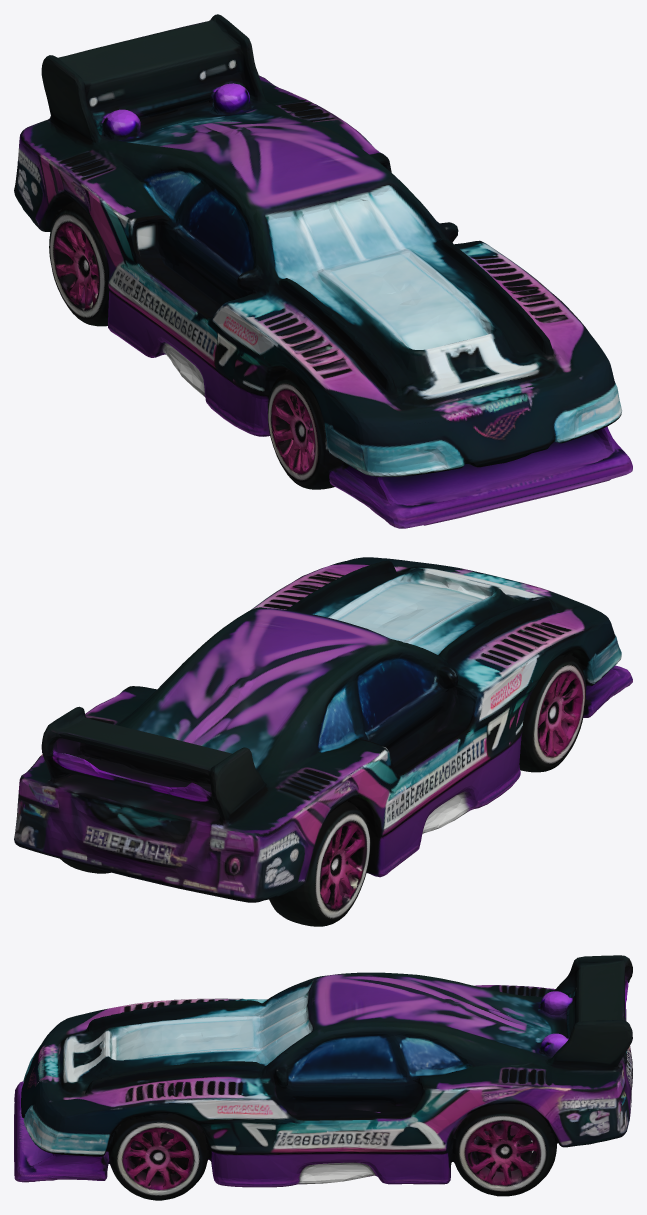
3 views of the same model, one above another, from view 1: azimuth 30°, elevation 25°; view 2: azimuth 150°, elevation 25°; view 3: azimuth 270°, elevation 25° (orthographic). The views are drawn at different scales.
Visible parts, largest first — view 1: material; view 2: material; view 3: material.
Part boxes in pixels (x1,y1,x2,y2): material: (14, 14, 632, 528); material: (14, 557, 632, 926); material: (14, 955, 632, 1200).
Bounding box in the file's own units: 0.4623 × 0.3287 × 1.11.
Materials: 1 (1 with a texture image).
